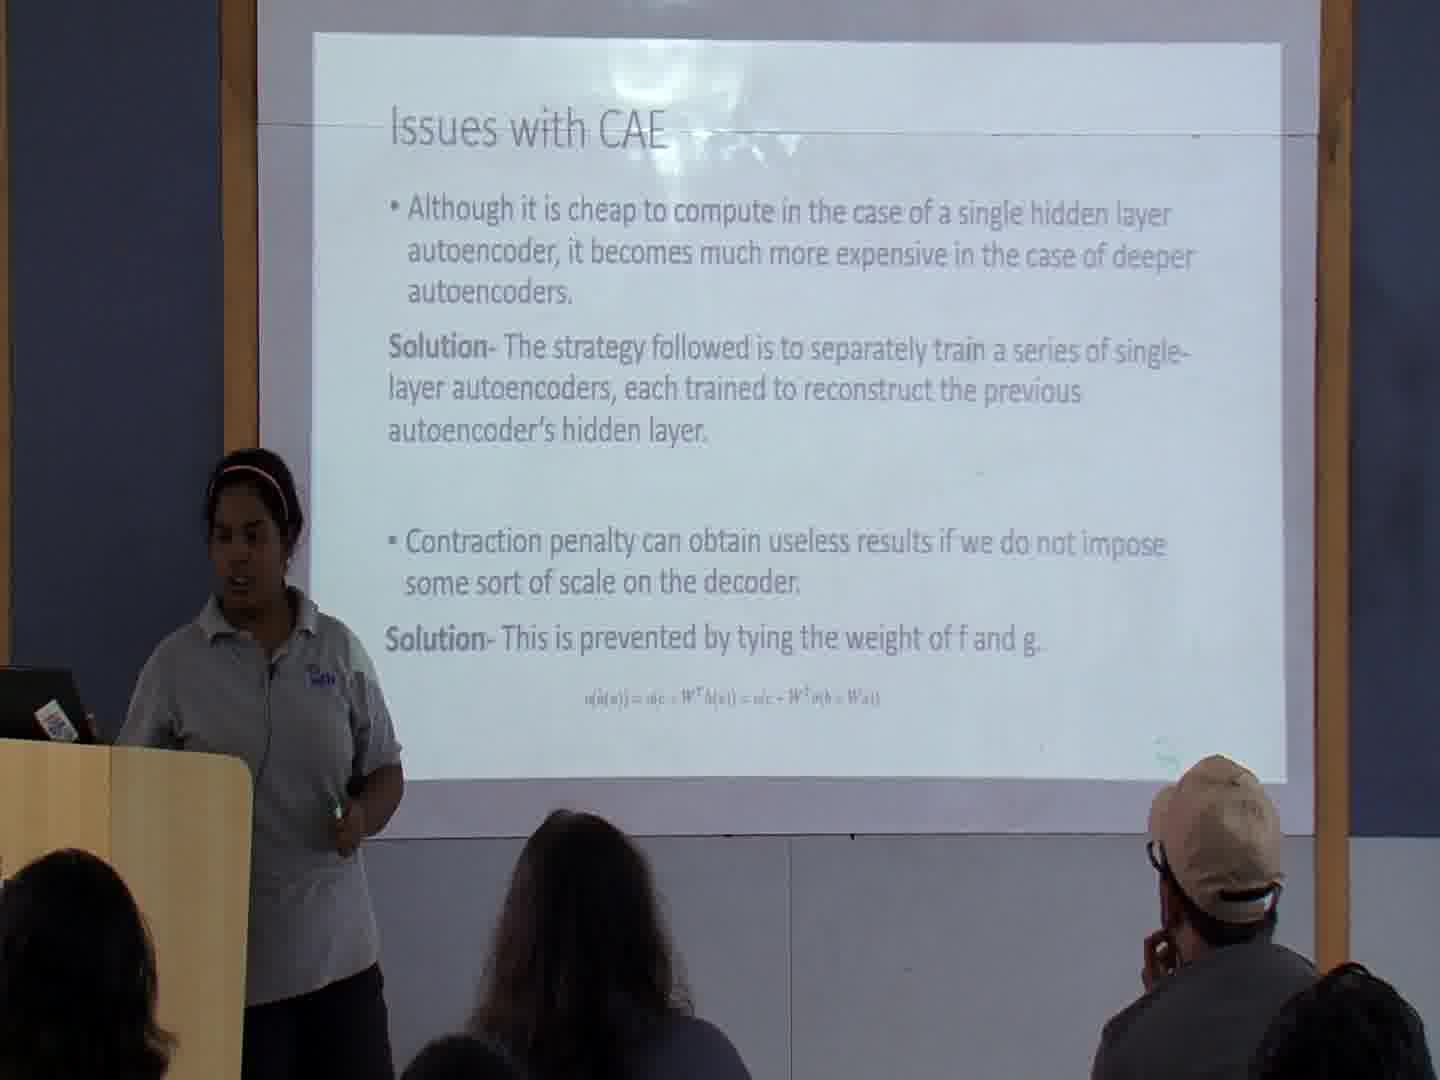eq: (581, 678, 889, 719)
